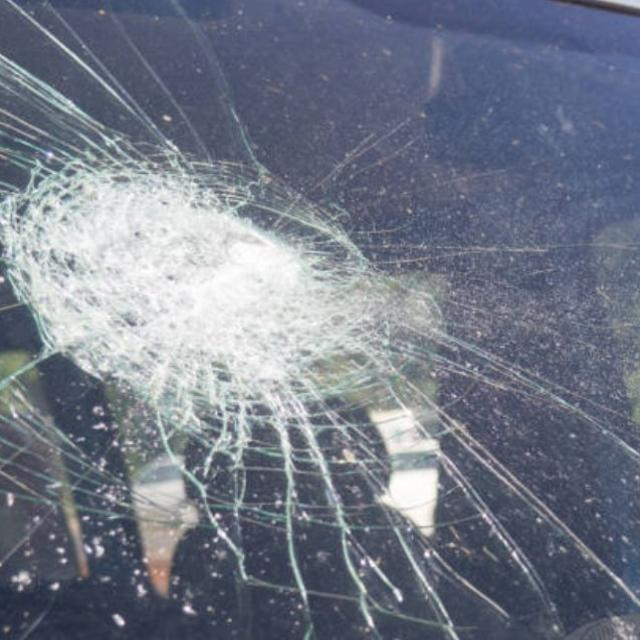electronic: (0, 129, 504, 480)
